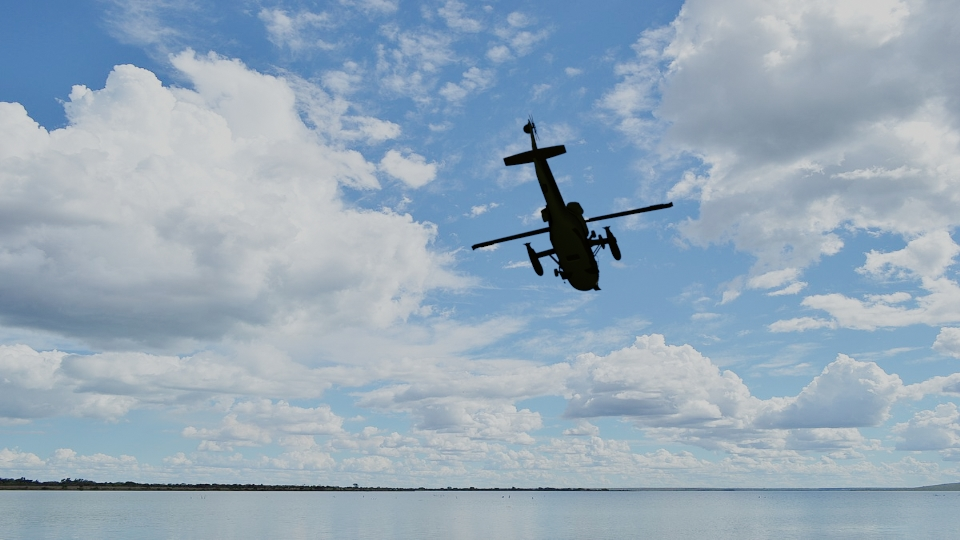heli: (470, 116, 672, 292)
